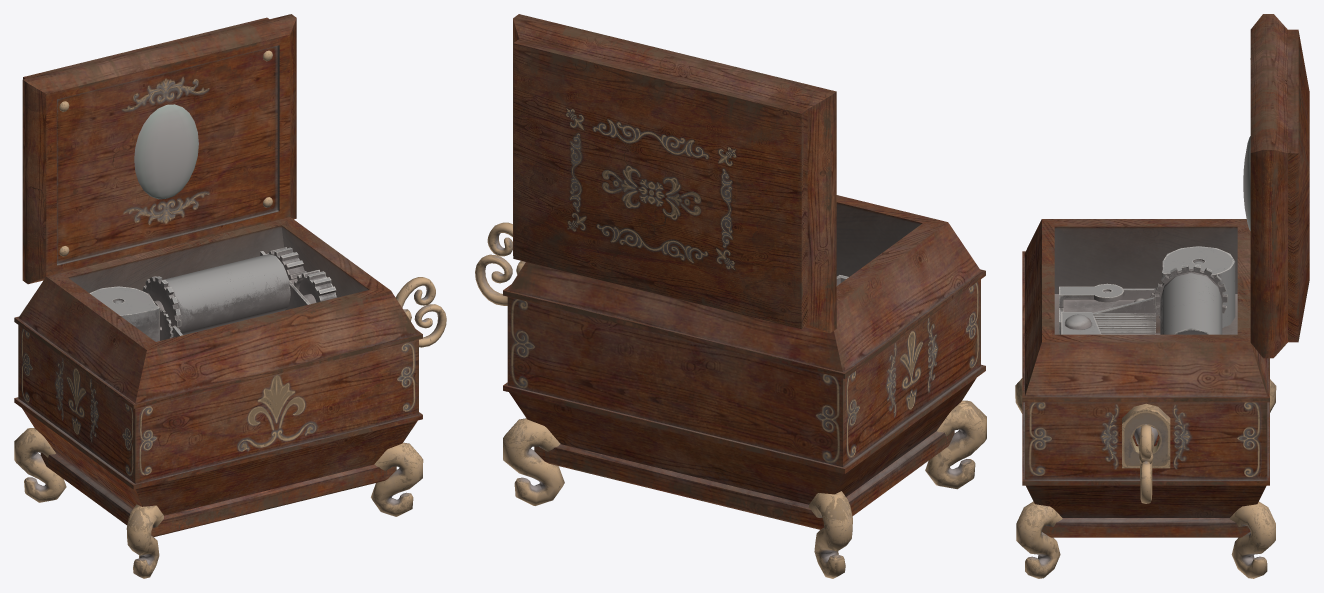
The model's file is musicbox.glb.
3 renders of one model, left to right at view 1: azimuth 30°, elevation 25°; view 2: azimuth 150°, elevation 25°; view 3: azimuth 270°, elevation 25°, orthographic. The views are drawn at different scales.
Parts seen in each view (by area): view 1: Base, Lid, pCylinder3, SpherPaint, Leg2, Leg4, pCylinder1, Leg3, Key, pGear3, pGear1, pGear4; view 2: Base, Lid, Leg1, Leg3, Leg4, Key; view 3: Base, Lid, pCylinder3, Leg1, Leg2, pCylinder1, Key_base, pCube1, pCube3, Key, pGear1, SpherPaint (+2 smaller).
Part boxes in pixels (left/top/right/bottom): Base: left=14, top=217, right=422, bottom=536; Lid: left=22, top=14, right=296, bottom=284; pCylinder3: left=162, top=254, right=290, bottom=335; SpherPaint: left=134, top=104, right=198, bottom=199; Leg2: left=371, top=442, right=423, bottom=516; Leg4: left=14, top=428, right=66, bottom=502; pCylinder1: left=89, top=286, right=159, bottom=341; Leg3: left=126, top=504, right=163, bottom=578; Key: left=395, top=277, right=446, bottom=347; pGear3: left=293, top=269, right=336, bottom=303; pGear1: left=142, top=276, right=181, bottom=337; pGear4: left=266, top=247, right=306, bottom=284; Base: left=503, top=195, right=985, bottom=529; Lid: left=513, top=14, right=836, bottom=333; Leg1: left=503, top=418, right=564, bottom=505; Leg3: left=925, top=400, right=986, bottom=489; Leg4: left=809, top=491, right=852, bottom=578; Key: left=475, top=222, right=525, bottom=305; Base: left=1022, top=219, right=1269, bottom=537; Lid: left=1250, top=14, right=1309, bottom=358; pCylinder3: left=1160, top=271, right=1222, bottom=334; Leg1: left=1229, top=501, right=1275, bottom=578; Leg2: left=1016, top=501, right=1062, bottom=578; pCylinder1: left=1162, top=246, right=1235, bottom=327; Key_base: left=1122, top=403, right=1170, bottom=468; pCube1: left=1059, top=286, right=1155, bottom=334; pCube3: left=1093, top=313, right=1155, bottom=334; Key: left=1134, top=424, right=1158, bottom=503; pGear1: left=1155, top=265, right=1227, bottom=313; SpherPaint: left=1243, top=136, right=1250, bottom=230.
Size of the model in its own units: 0.0924 by 0.0985 by 0.0607.
6 materials, 6 textured.
